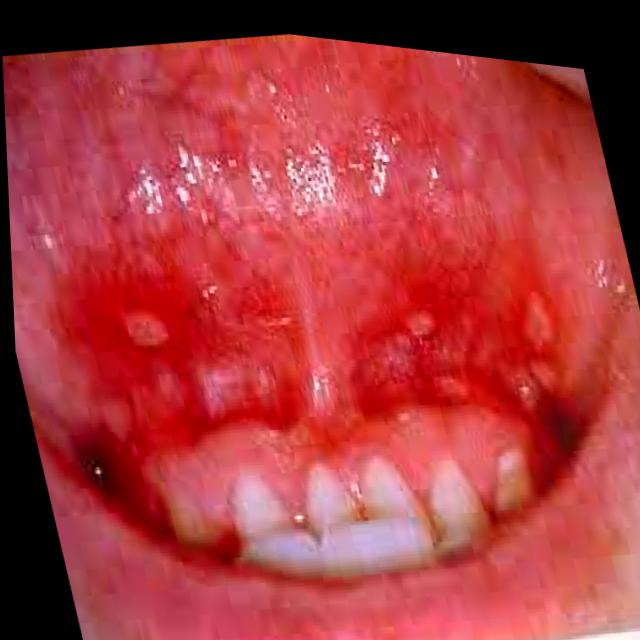ulcer: (126, 315, 167, 349), (525, 295, 553, 343), (406, 314, 433, 335), (531, 365, 554, 389), (519, 380, 538, 404)
